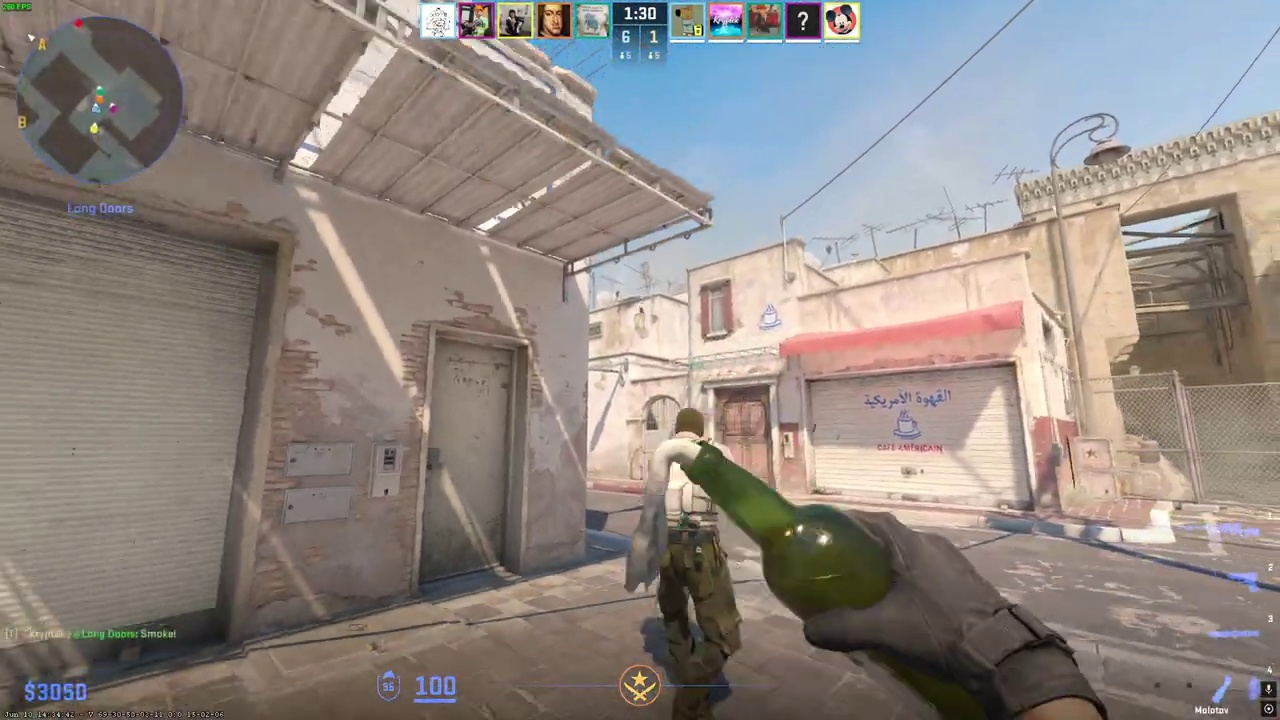Terrorist: (631, 405, 751, 720)
